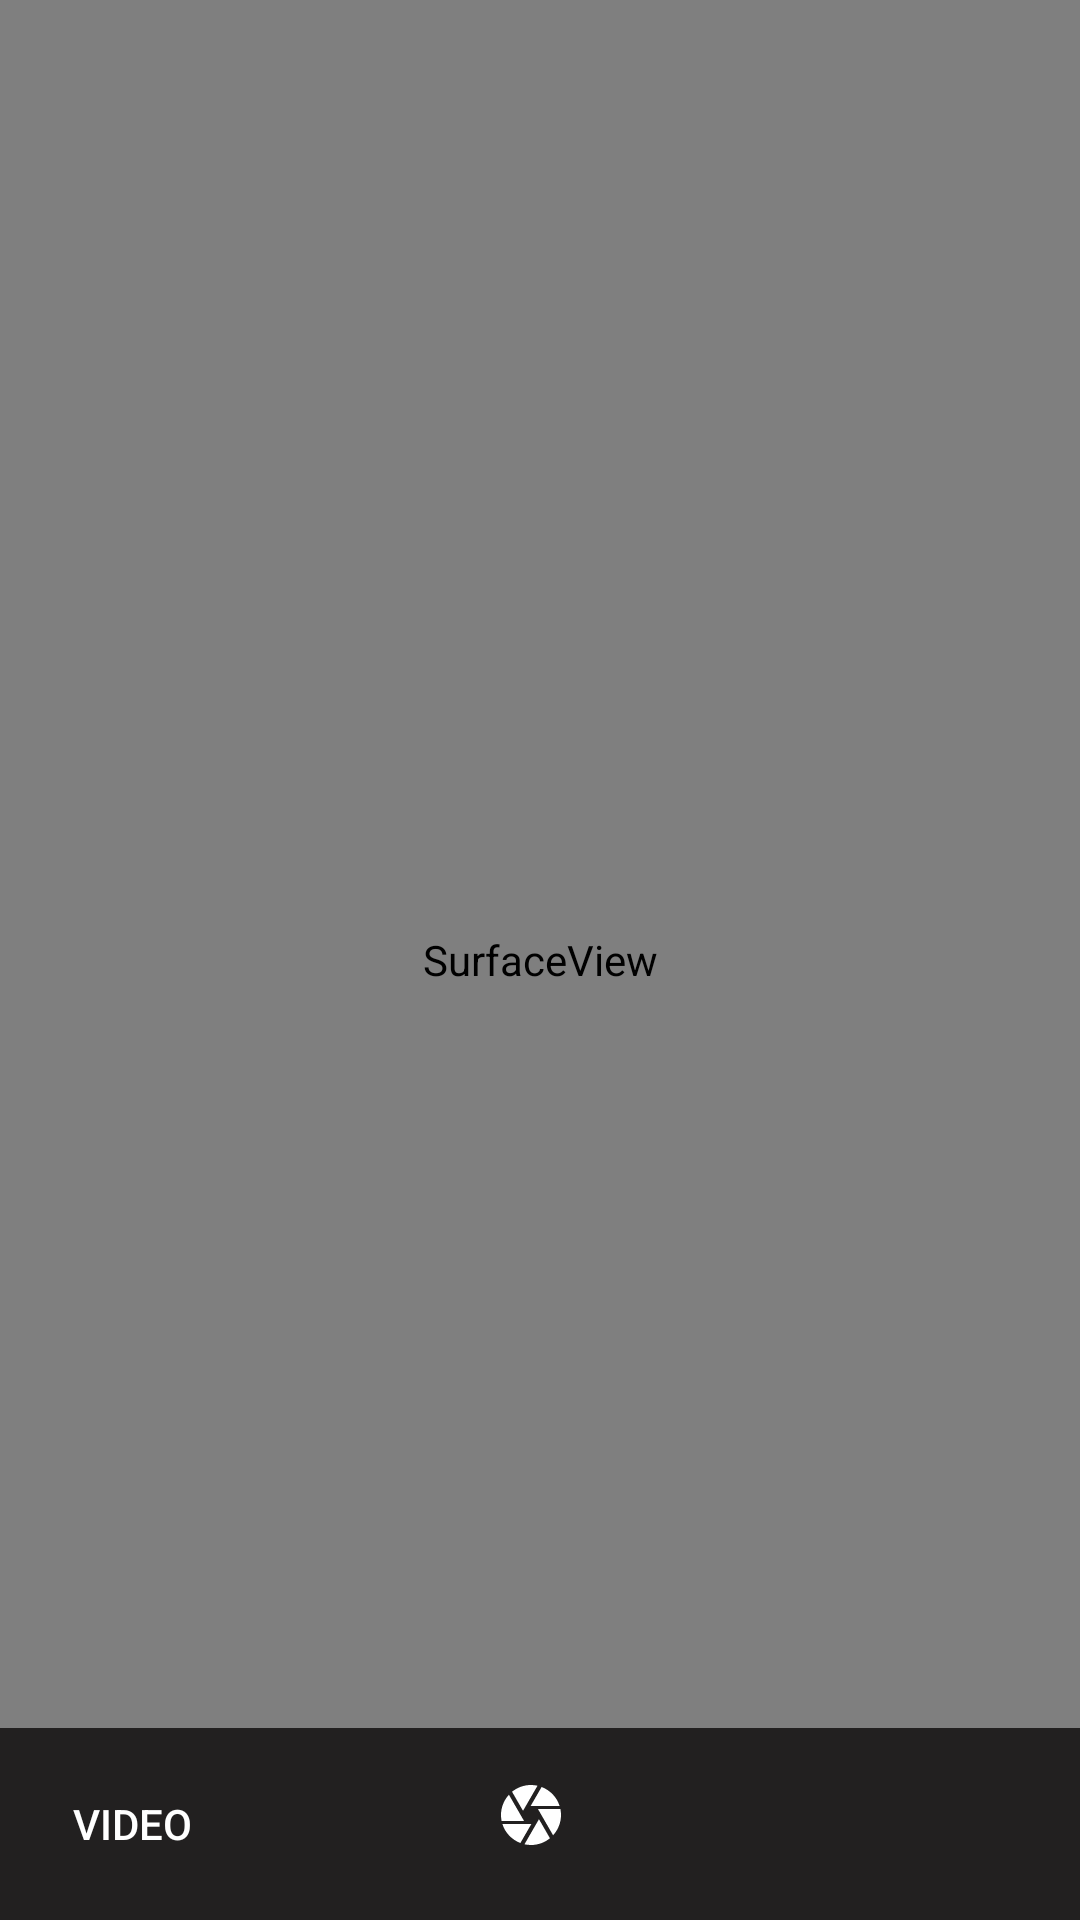

Screen size 1080*1920. Icon name, then its box in pixels as bbox(x1, y1, x2, y2):
camera: bbox(501, 1785, 561, 1845)
